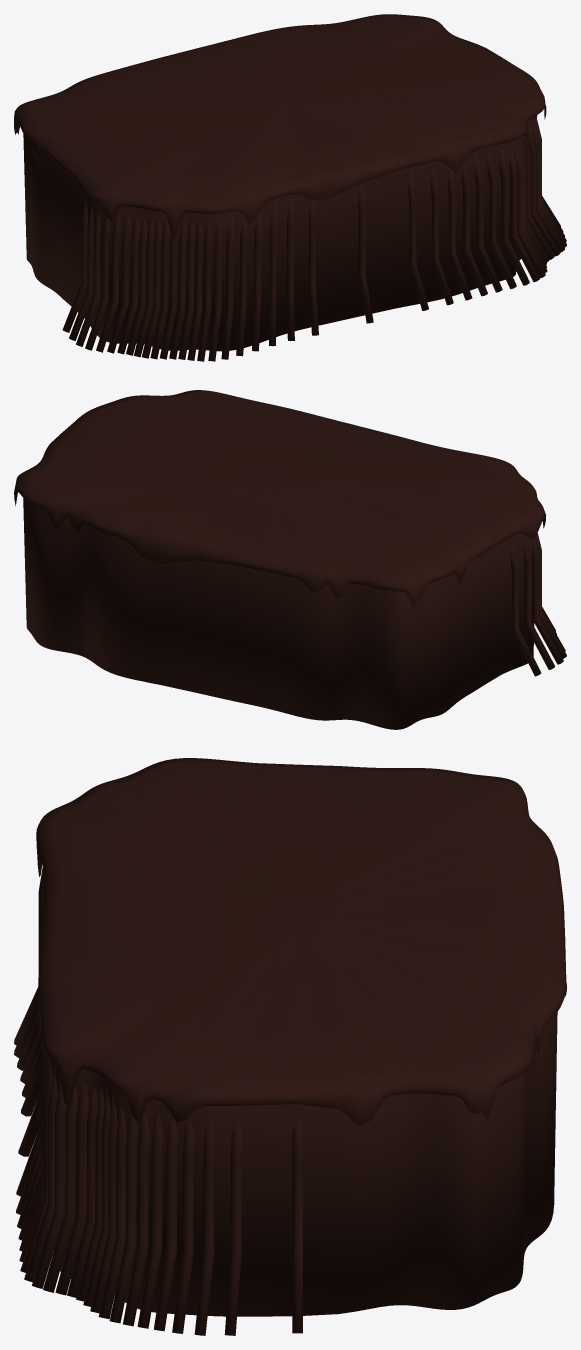
The model's file is chocolate-mesa.glb.
3 views of the same model, one above another, from view 1: azimuth 30°, elevation 25°; view 2: azimuth 150°, elevation 25°; view 3: azimuth 270°, elevation 25° (orthographic). The views are drawn at different scales.
Visible parts, largest first — view 1: Poured icing and drips, Baked layer, Lacquered chocolate flows.018, Lacquered chocolate flows.019, Lacquered chocolate flows.017, Lacquered chocolate flows.030, Lacquered chocolate flows.023, Lacquered chocolate flows.031, Lacquered chocolate flows.042, Lacquered chocolate flows.022, Lacquered chocolate flows.037, Lacquered chocolate flows.024 (+26 smaller); view 2: Poured icing and drips, Baked layer, Lacquered chocolate flows.046, Lacquered chocolate flows.047, Lacquered chocolate flows.045, Lacquered chocolate flows.044; view 3: Poured icing and drips, Baked layer, Lacquered chocolate flows.002, Lacquered chocolate flows.001, Lacquered chocolate flows.005, Lacquered chocolate flows.003, Lacquered chocolate flows.004, Lacquered chocolate flows.006, Lacquered chocolate flows.013, Lacquered chocolate flows.007, Lacquered chocolate flows, Lacquered chocolate flows.015 (+9 smaller).
Boxes of the visible parts, bbox=[...] form: Poured icing and drips: bbox=[14, 14, 546, 240]; Baked layer: bbox=[23, 115, 537, 351]; Lacquered chocolate flows.018: bbox=[487, 151, 516, 289]; Lacquered chocolate flows.019: bbox=[474, 154, 502, 292]; Lacquered chocolate flows.017: bbox=[499, 149, 529, 285]; Lacquered chocolate flows.030: bbox=[221, 217, 234, 359]; Lacquered chocolate flows.023: bbox=[408, 171, 428, 310]; Lacquered chocolate flows.031: bbox=[208, 220, 222, 361]; Lacquered chocolate flows.042: bbox=[107, 215, 131, 353]; Lacquered chocolate flows.022: bbox=[430, 166, 453, 305]; Lacquered chocolate flows.037: bbox=[150, 220, 170, 359]; Lacquered chocolate flows.024: bbox=[358, 183, 373, 323]; Poured icing and drips: bbox=[14, 390, 545, 607]; Baked layer: bbox=[23, 498, 536, 729]; Lacquered chocolate flows.046: bbox=[523, 537, 554, 669]; Lacquered chocolate flows.047: bbox=[511, 543, 541, 676]; Lacquered chocolate flows.045: bbox=[532, 538, 563, 664]; Lacquered chocolate flows.044: bbox=[536, 533, 566, 658]; Poured icing and drips: bbox=[36, 758, 566, 1126]; Baked layer: bbox=[51, 1012, 557, 1316]; Lacquered chocolate flows.002: bbox=[194, 1120, 215, 1335]; Lacquered chocolate flows.001: bbox=[224, 1120, 242, 1335]; Lacquered chocolate flows.005: bbox=[137, 1116, 163, 1328]; Lacquered chocolate flows.003: bbox=[172, 1120, 194, 1333]; Lacquered chocolate flows.004: bbox=[153, 1118, 178, 1331]; Lacquered chocolate flows.006: bbox=[123, 1114, 150, 1326]; Lacquered chocolate flows.013: bbox=[55, 1085, 88, 1295]; Lacquered chocolate flows.007: bbox=[109, 1109, 137, 1323]; Lacquered chocolate flows: bbox=[292, 1118, 302, 1333]; Lacquered chocolate flows.015: bbox=[32, 1079, 66, 1288].
Bounding box in the file's own units: 13.97 × 4.36 × 8.86.
